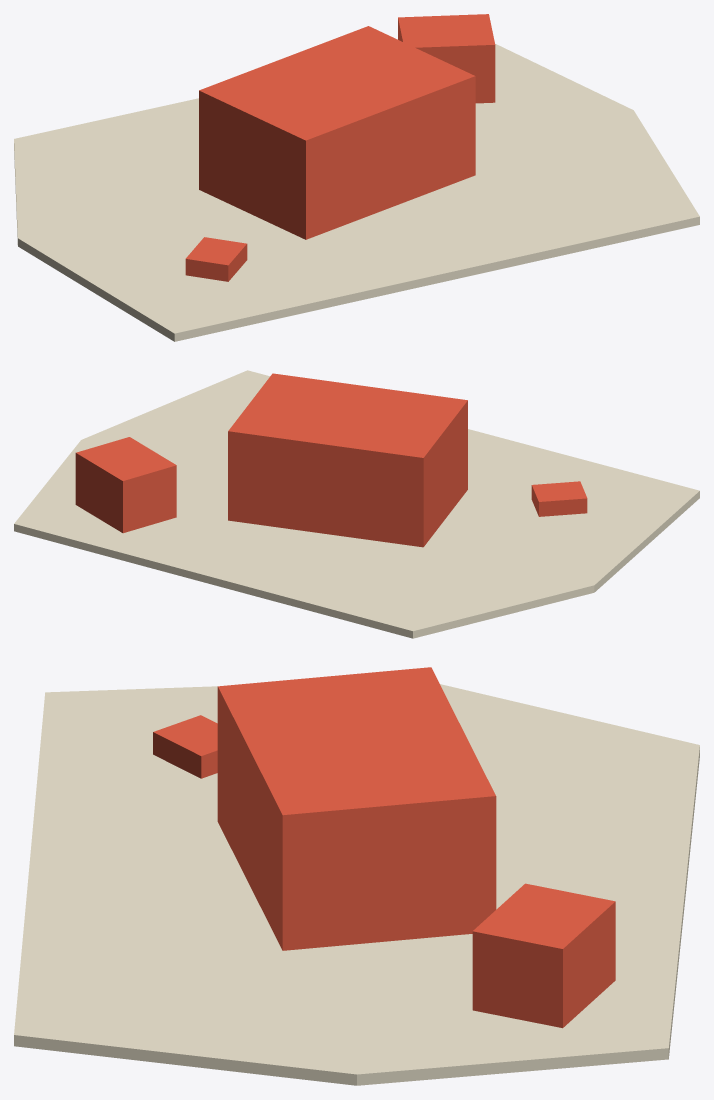
The model's file is prop-vermilion-cake.fbx.
3 views of the same model, one above another, from view 1: azimuth 30°, elevation 25°; view 2: azimuth 150°, elevation 25°; view 3: azimuth 270°, elevation 25° (orthographic). The views are drawn at different scales.
Visible parts, largest first — view 1: prop-vermilion-cake; view 2: prop-vermilion-cake; view 3: prop-vermilion-cake.
Boxes of the visible parts, x1,y1,x2,y2 form: prop-vermilion-cake: [14, 14, 699, 341]; prop-vermilion-cake: [14, 370, 699, 638]; prop-vermilion-cake: [14, 667, 699, 1085].
Size of the model in its own units: 15 by 2.6 by 11.
